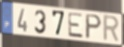3: (34, 9, 47, 35)
4: (17, 8, 28, 33)
7: (51, 9, 65, 38)
E: (67, 12, 85, 40)
P: (85, 13, 103, 40)
R: (102, 14, 121, 44)
